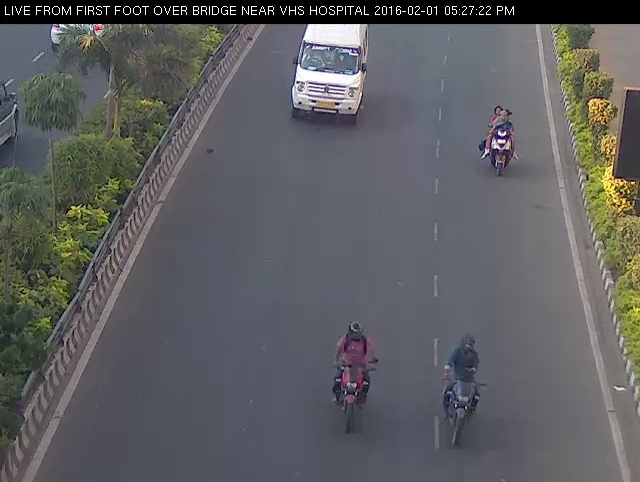Bus: (277, 14, 380, 135)
Person: (324, 308, 384, 440), (432, 326, 492, 449), (476, 102, 524, 182)
